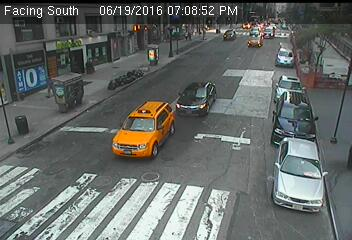neg: (168, 108, 201, 153), (138, 43, 168, 83), (18, 110, 48, 150), (217, 134, 246, 173), (79, 176, 106, 212), (139, 183, 164, 217), (283, 141, 308, 173), (124, 104, 148, 136), (273, 88, 297, 120), (258, 38, 280, 68), (177, 49, 198, 78), (56, 74, 76, 101), (102, 72, 120, 97), (207, 198, 225, 222), (225, 59, 241, 80), (46, 160, 60, 179)
